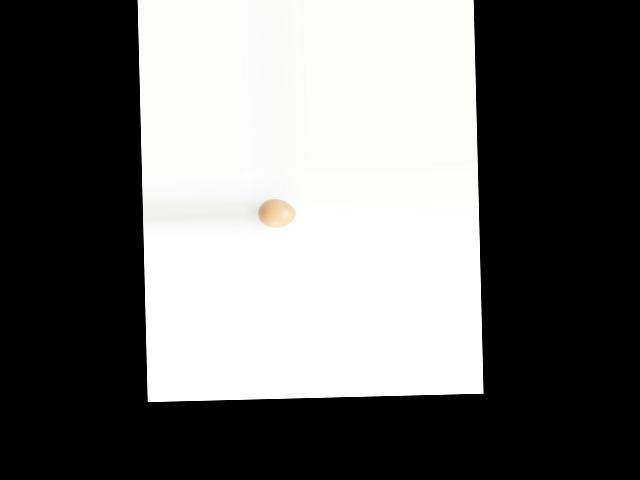egg: (256, 197, 296, 227)
